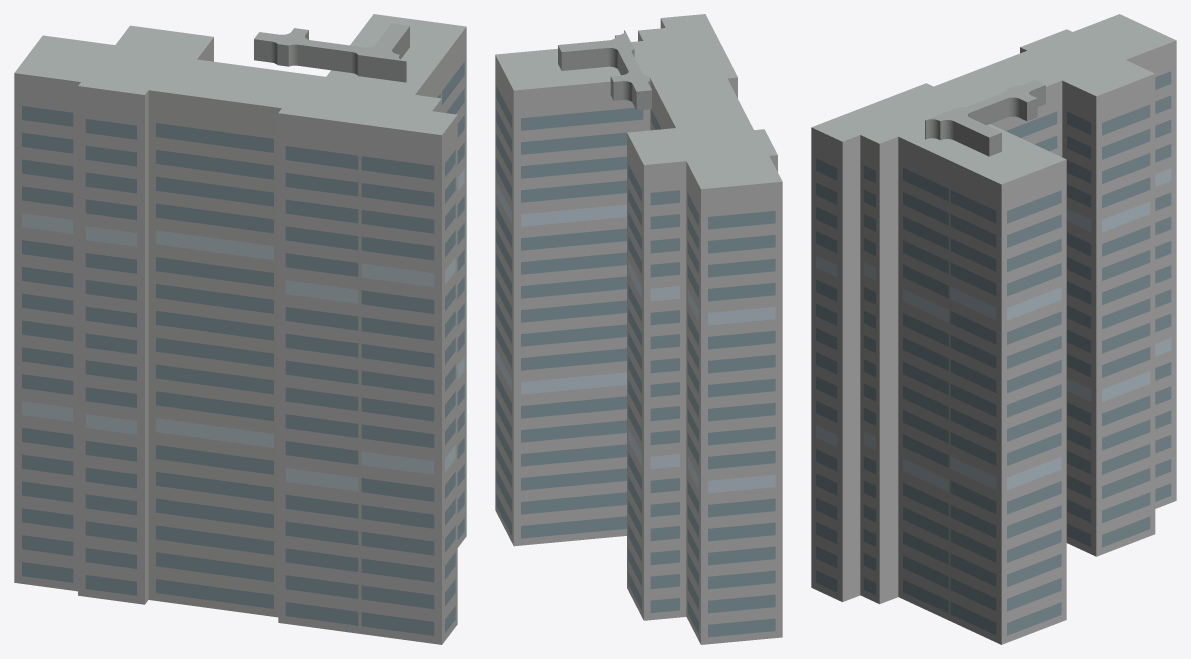
Rendered from fallback-gaepo-xi-presidence-402.glb.
3 renders of one model, left to right at view 1: azimuth 30°, elevation 25°; view 2: azimuth 150°, elevation 25°; view 3: azimuth 270°, elevation 25°, orthographic. The views are drawn at different scales.
Visible parts, largest first — view 1: fallback-gaepo-xi-presidence-402; view 2: fallback-gaepo-xi-presidence-402; view 3: fallback-gaepo-xi-presidence-402.
Part boxes in pixels (x1,y1,x2,y2): fallback-gaepo-xi-presidence-402: (14, 14, 466, 644); fallback-gaepo-xi-presidence-402: (495, 14, 782, 644); fallback-gaepo-xi-presidence-402: (811, 14, 1176, 644).
Bounding box in the file's own units: 46.04 × 60.35 × 41.66.
